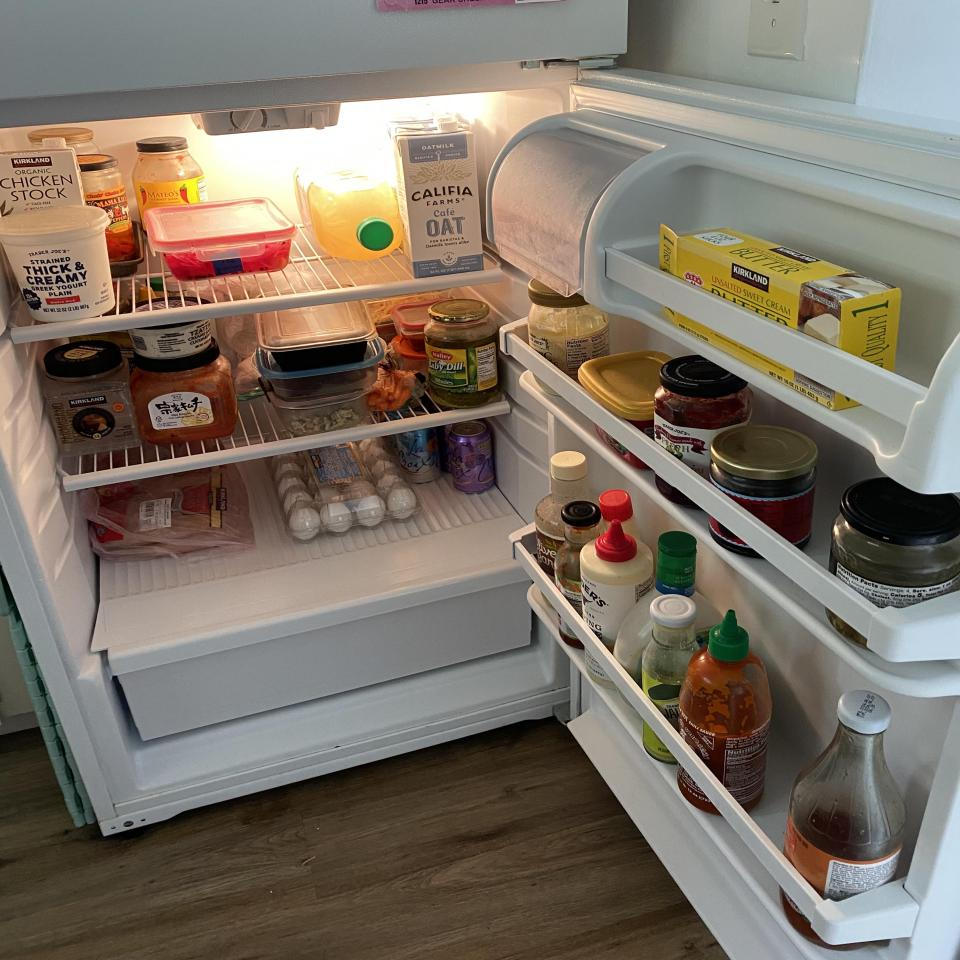Huevos: (269, 437, 422, 543)
Leche: (392, 122, 484, 278)
Yogur: (0, 205, 116, 322)
